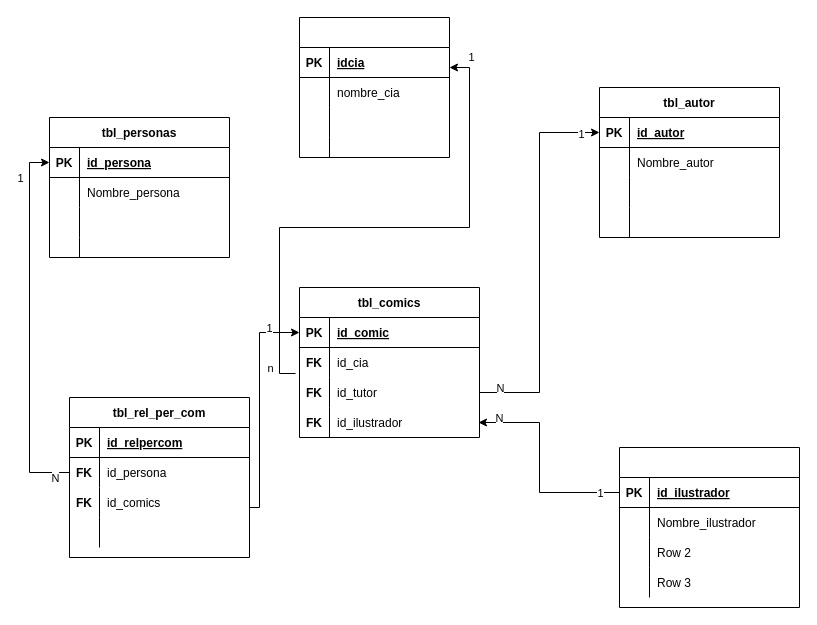
Image size: 817x625. Some labels were removed from this diagram. The box of each missing label's shape, as (x1, y1, x2, y2) in pixels:
tbl_cia: (298, 16, 450, 158)
tbl_ilustrador: (618, 446, 800, 608)
